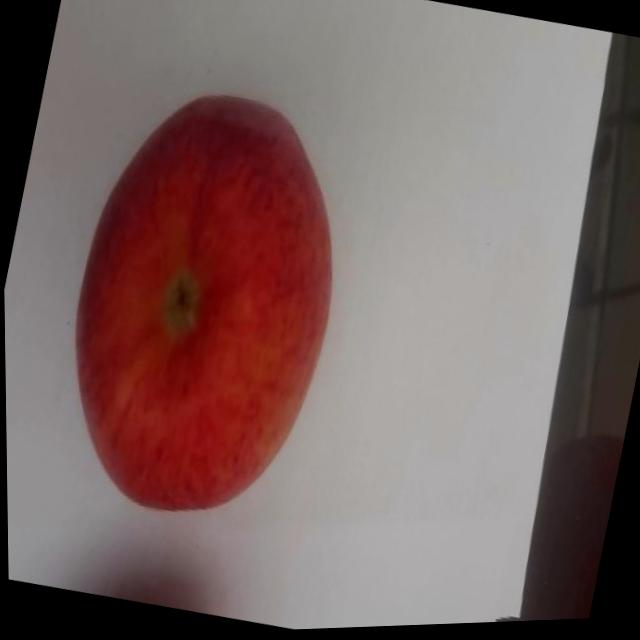Apple: (34, 71, 373, 544)
